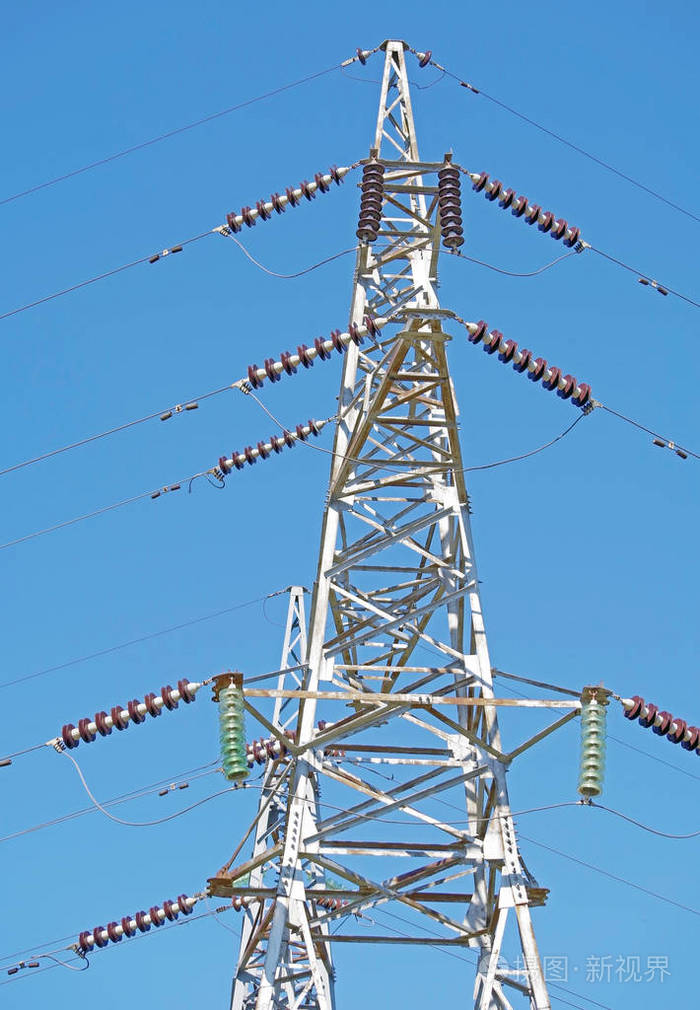insulator: (466, 323, 596, 404), (57, 680, 195, 752), (248, 318, 377, 385), (224, 164, 346, 233), (468, 173, 580, 244), (74, 895, 194, 954), (216, 417, 320, 473), (625, 694, 700, 748), (216, 684, 247, 780), (432, 163, 468, 244), (356, 161, 390, 241), (581, 699, 603, 796)
